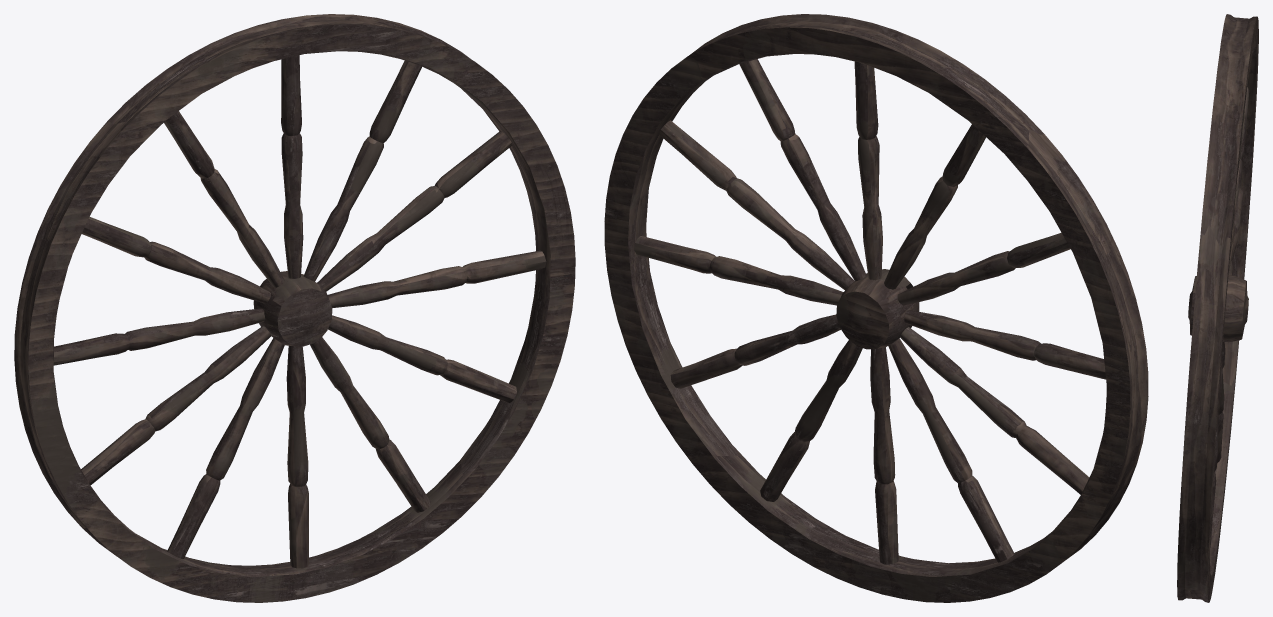
File: wheel-sew.glb
The picture shows the model from 3 angles, left to right: view 1: azimuth 30°, elevation 25°; view 2: azimuth 150°, elevation 25°; view 3: azimuth 270°, elevation 25°; orthographic projection. The views are drawn at different scales.
Visible parts, largest first — view 1: spinning_wheel_01.001; view 2: spinning_wheel_01.001; view 3: spinning_wheel_01.001.
Part boxes in pixels (x1,y1,x2,y2): spinning_wheel_01.001: (14,14,575,602); spinning_wheel_01.001: (604,14,1148,602); spinning_wheel_01.001: (1177,14,1258,602).
Size of the model in its own units: 1.48 by 1.48 by 0.2058.
Materials: 1 (1 with a texture image).
